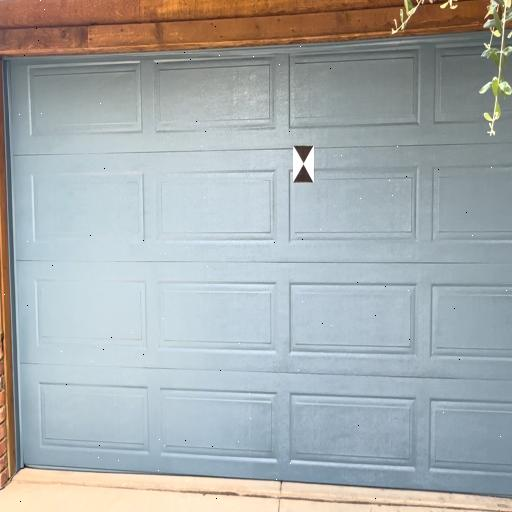target: (293, 146, 314, 182)
